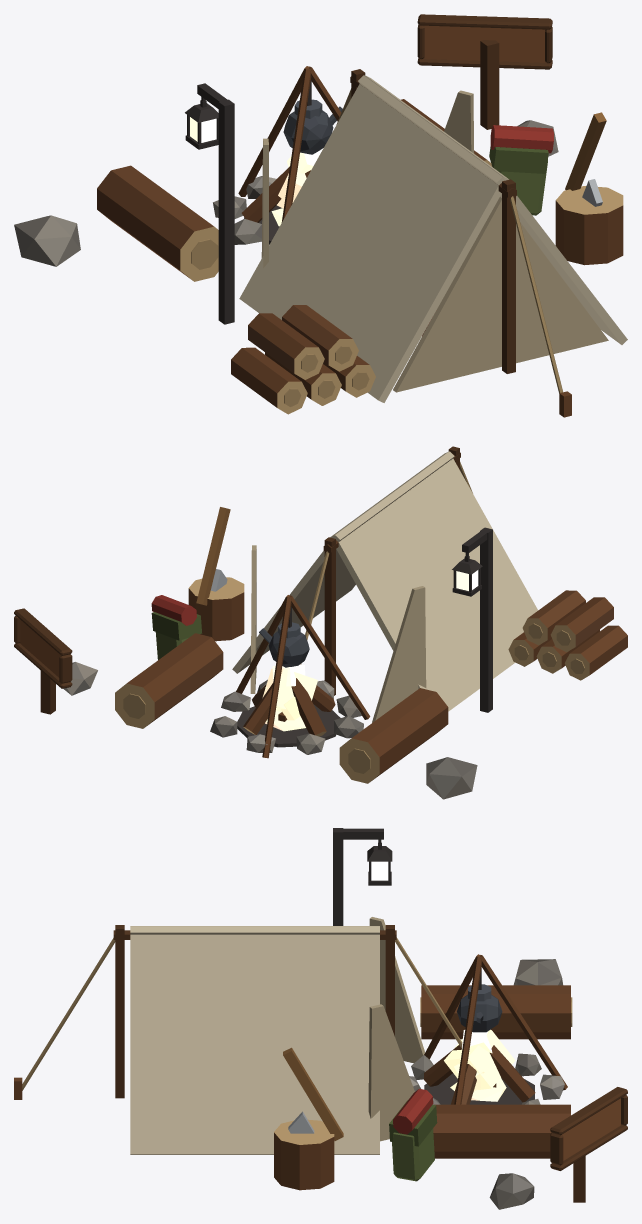
File: MurphsCamp.glb
The picture shows the model from 3 angles, top to bottom: view 1: azimuth 30°, elevation 25°; view 2: azimuth 150°, elevation 25°; view 3: azimuth 270°, elevation 25°; orthographic projection. The views are drawn at different scales.
Parts seen in each view (by area): view 1: Tent, Body, Sign, Flame; view 2: Body, Tent, Flame, Sign; view 3: Tent, Body, Flame, Sign.
Boxes of the visible parts, x1=… form: Tent: x1=239, y1=75, x2=627, y2=402; Body: x1=14, y1=14, x2=623, y2=417; Sign: x1=424, y1=25, x2=544, y2=62; Flame: x1=277, y1=149, x2=322, y2=208; Body: x1=14, y1=446, x2=627, y2=799; Tent: x1=232, y1=451, x2=537, y2=722; Flame: x1=262, y1=664, x2=317, y2=720; Sign: x1=20, y1=620, x2=60, y2=677; Tent: x1=130, y1=917, x2=425, y2=1154; Body: x1=14, y1=828, x2=627, y2=1209; Flame: x1=444, y1=1029, x2=515, y2=1091; Sign: x1=562, y1=1098, x2=620, y2=1160.
Size of what is drawn, in the model's own units: 13.53 by 5.37 by 14.77.
